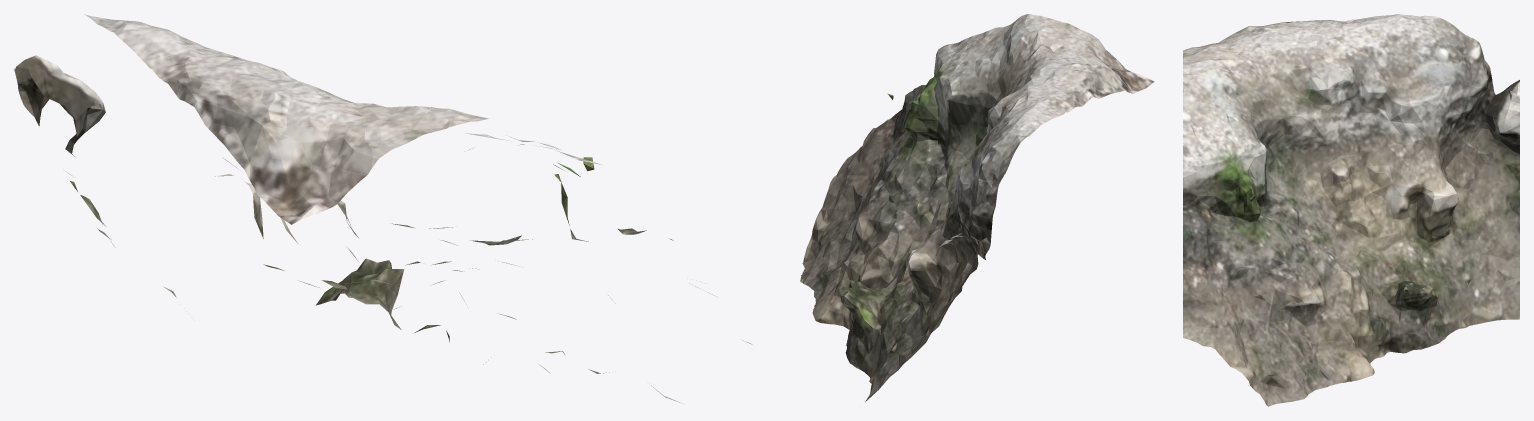
The picture shows the model from 3 angles, left to right: view 1: azimuth 30°, elevation 25°; view 2: azimuth 150°, elevation 25°; view 3: azimuth 270°, elevation 25°; orthographic projection. The views are drawn at different scales.
Bounding box in the file's own units: 2.95 × 2.44 × 2.95.
Materials: 3 (3 with a texture image).
